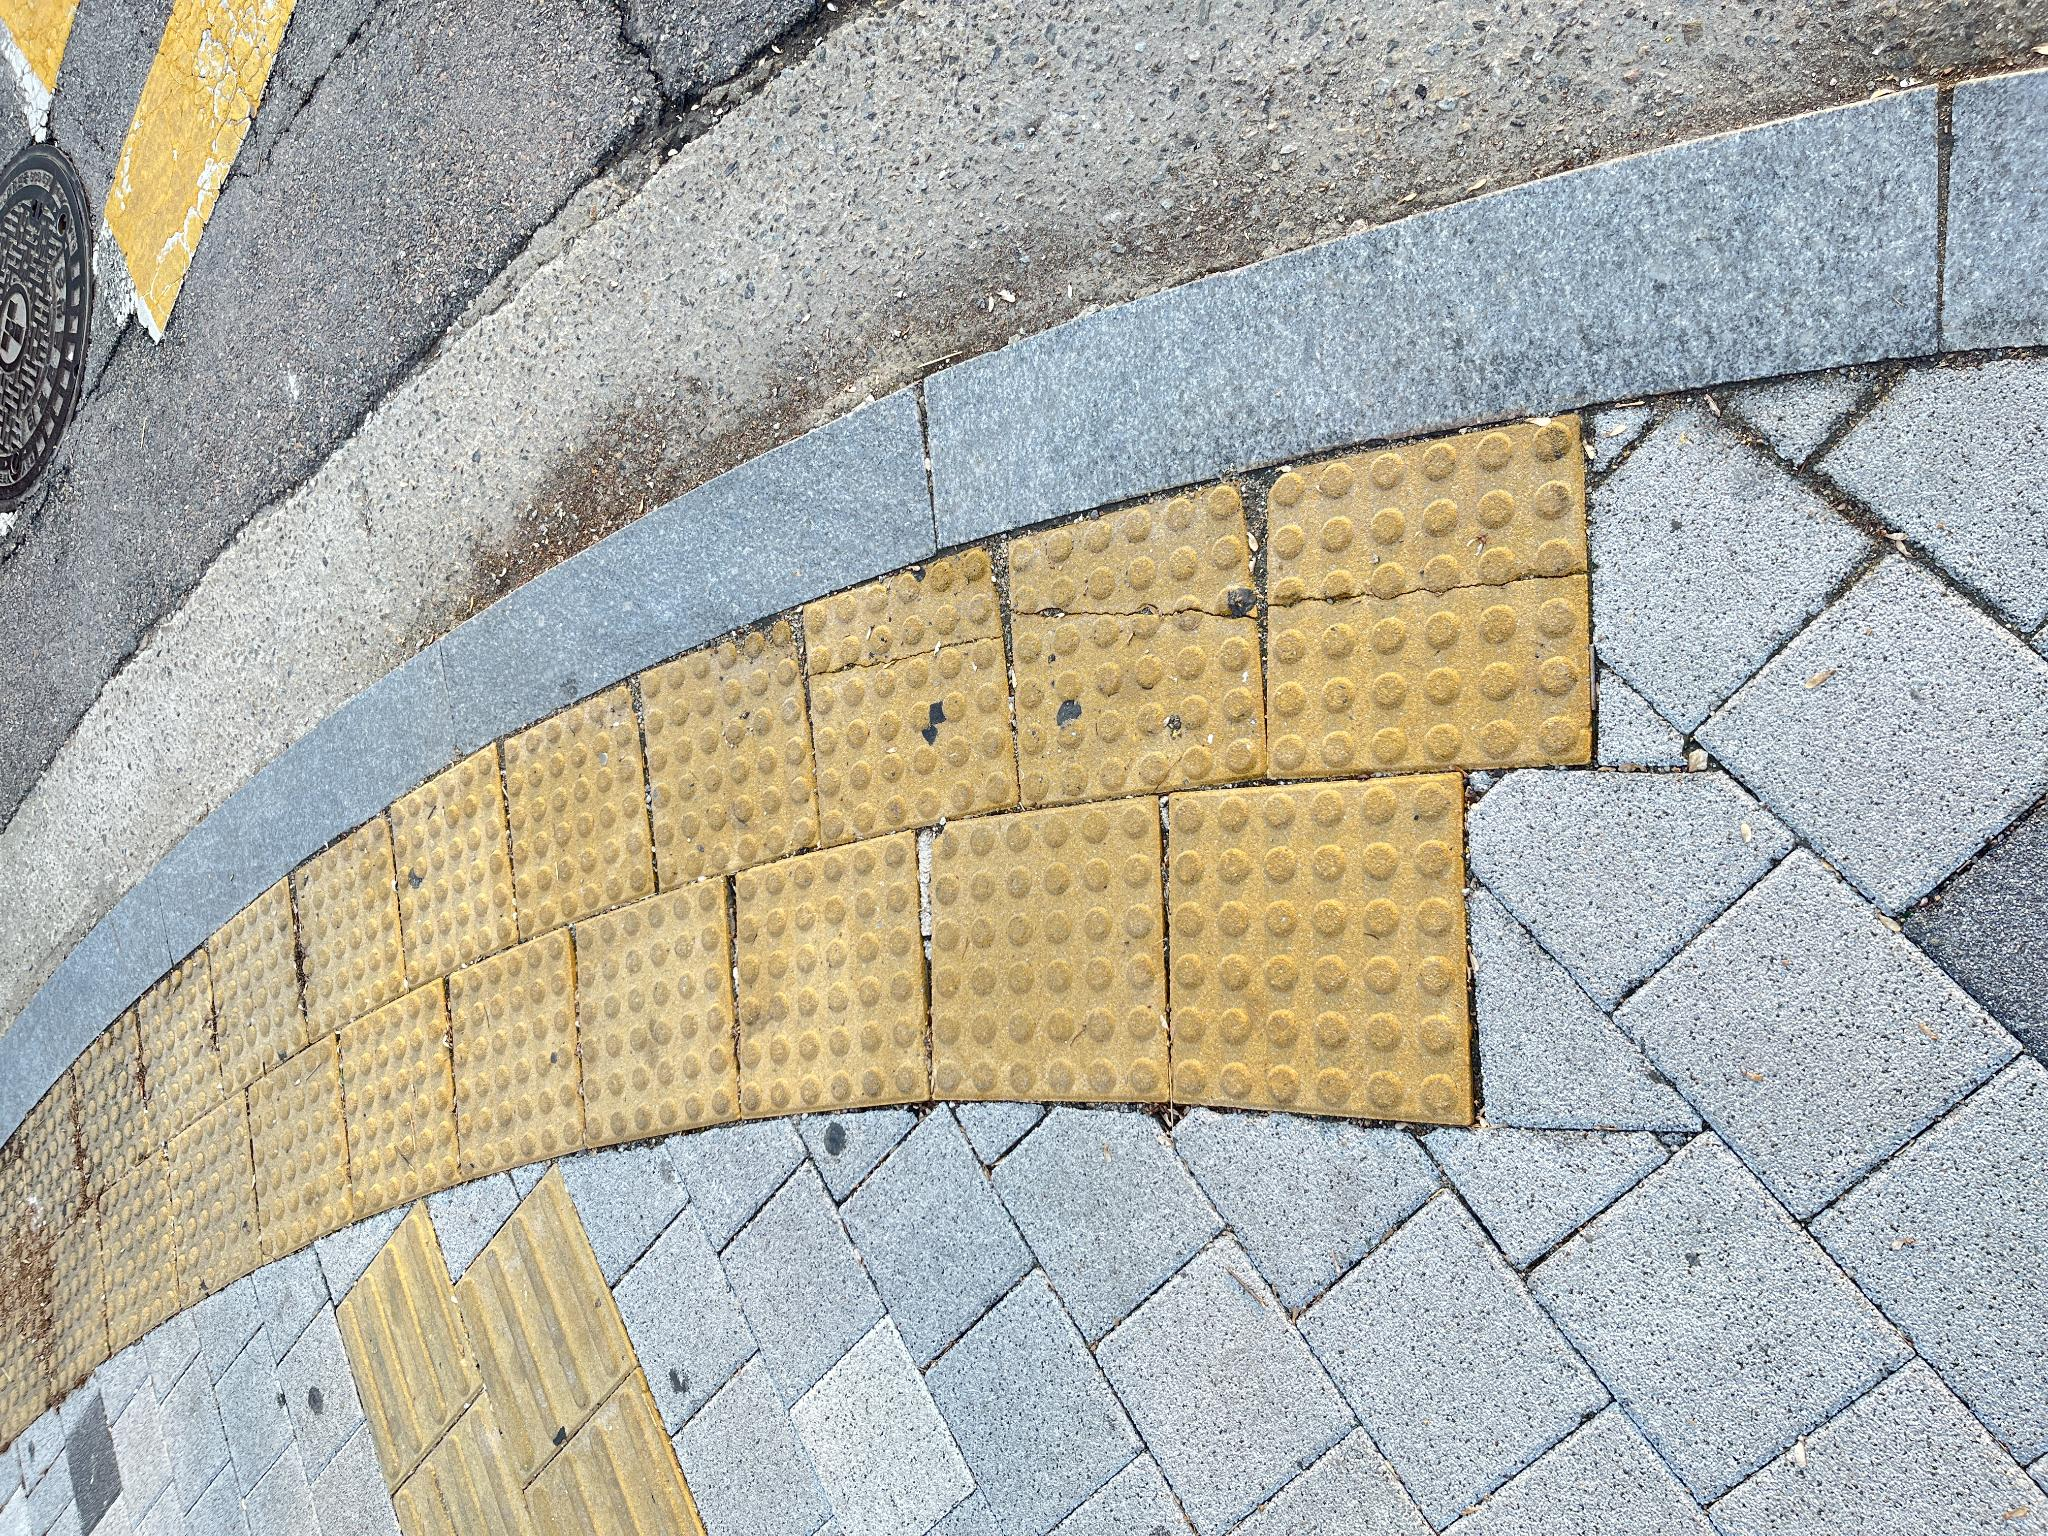Stop block broken: (763, 1270, 1109, 1536), (734, 1005, 1058, 1260), (692, 805, 990, 1012)
Stop block normal: (414, 1170, 760, 1468), (437, 933, 739, 1163), (418, 739, 705, 925), (648, 641, 918, 816), (389, 576, 656, 734), (597, 502, 855, 655), (358, 447, 608, 582), (550, 390, 792, 518), (319, 339, 555, 460), (497, 292, 719, 405), (276, 248, 502, 352), (440, 210, 656, 307), (227, 168, 447, 258), (387, 139, 587, 224)
Straight block normal: (53, 455, 369, 632), (48, 337, 335, 479)
